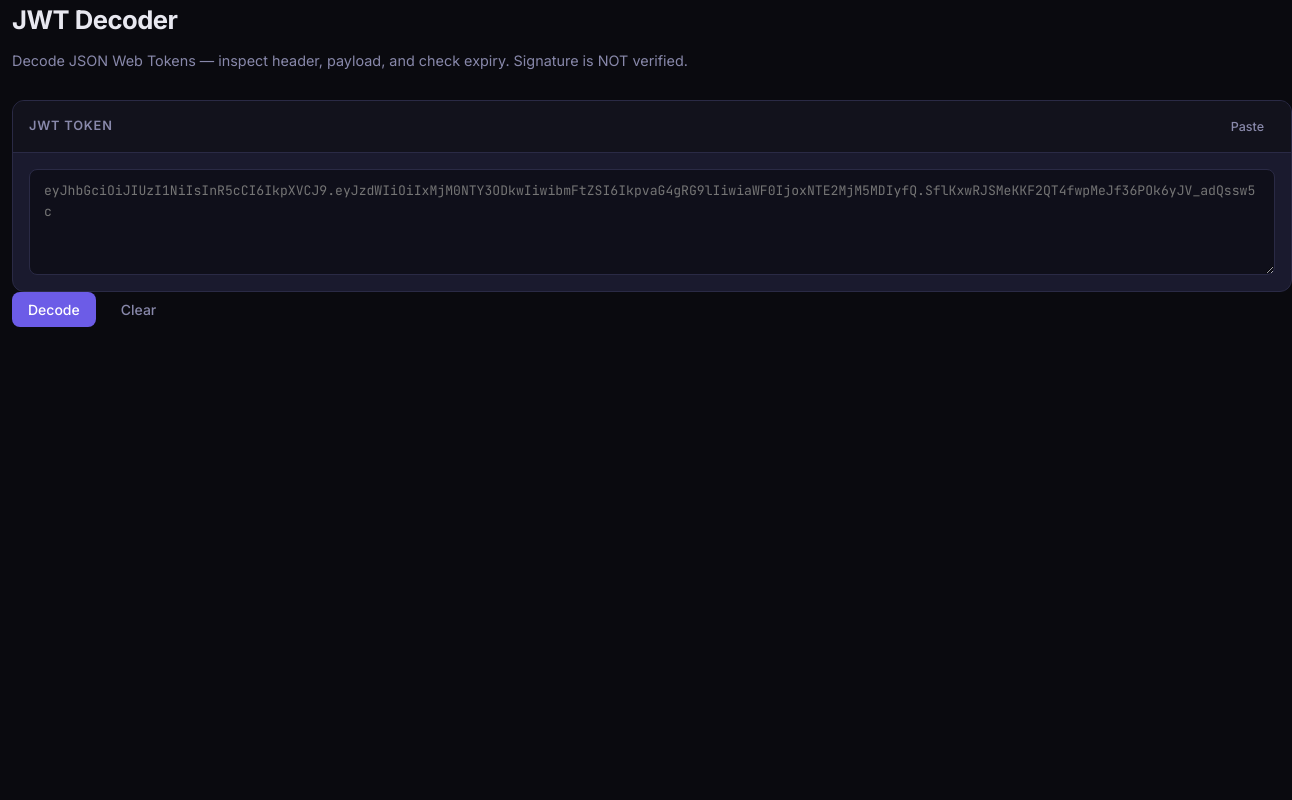
JwtDecoder › decodes valid JWT and shows header/payload/signature
Step 1. Replace the text in the text box with "eyJhbGciOiJIUzI1NiIsInR5cCI6IkpXVCJ9.eyJzdWIiOiIxMjM0NTY3ODkwIiwibmFtZSI6IkpvaG4gRG9lIiwiaWF0IjoxNTE2MjM5MDIyfQ.SflKxwRJSMeKKF2QT4fwpMeJf36POk6yJV_adQssw5c" → (652, 222), box [29,169,1275,275]
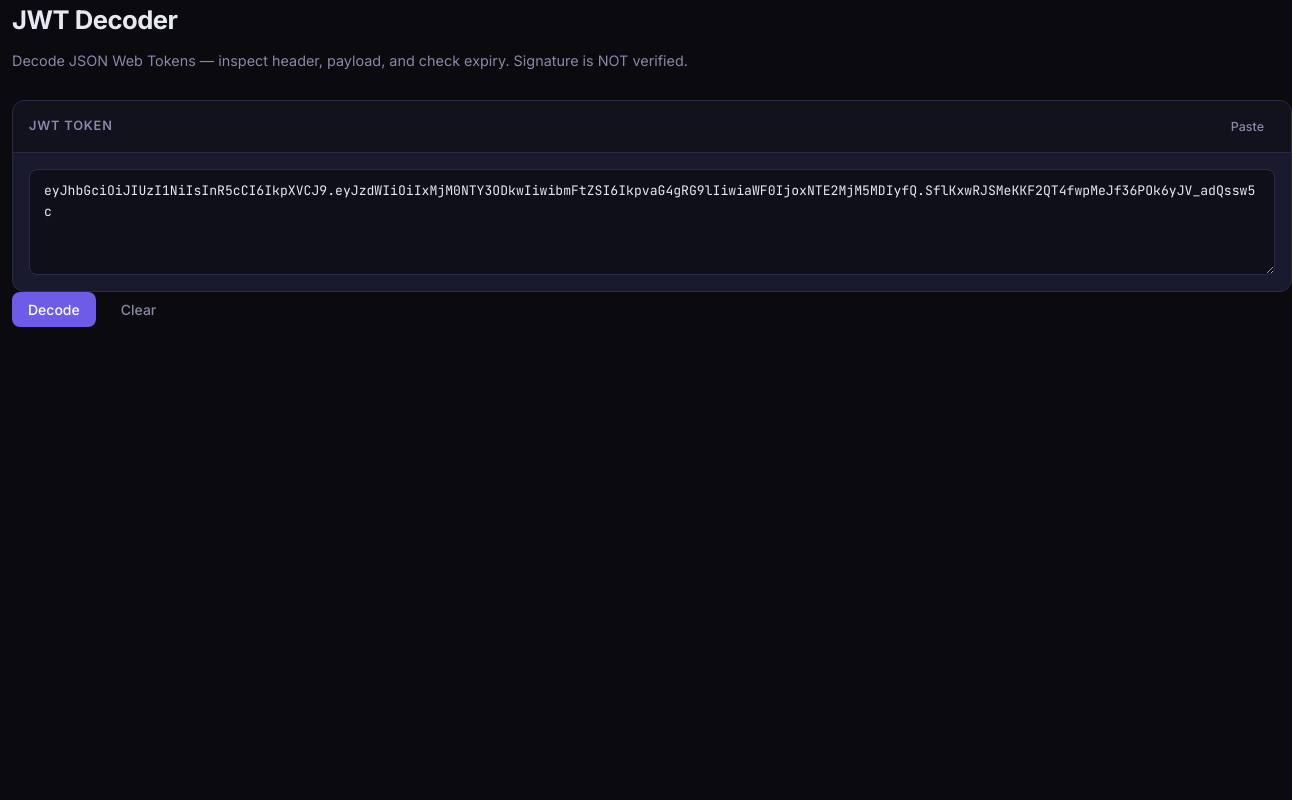
Step 2. Click the button "Decode" → (54, 309), box [12,292,96,327]
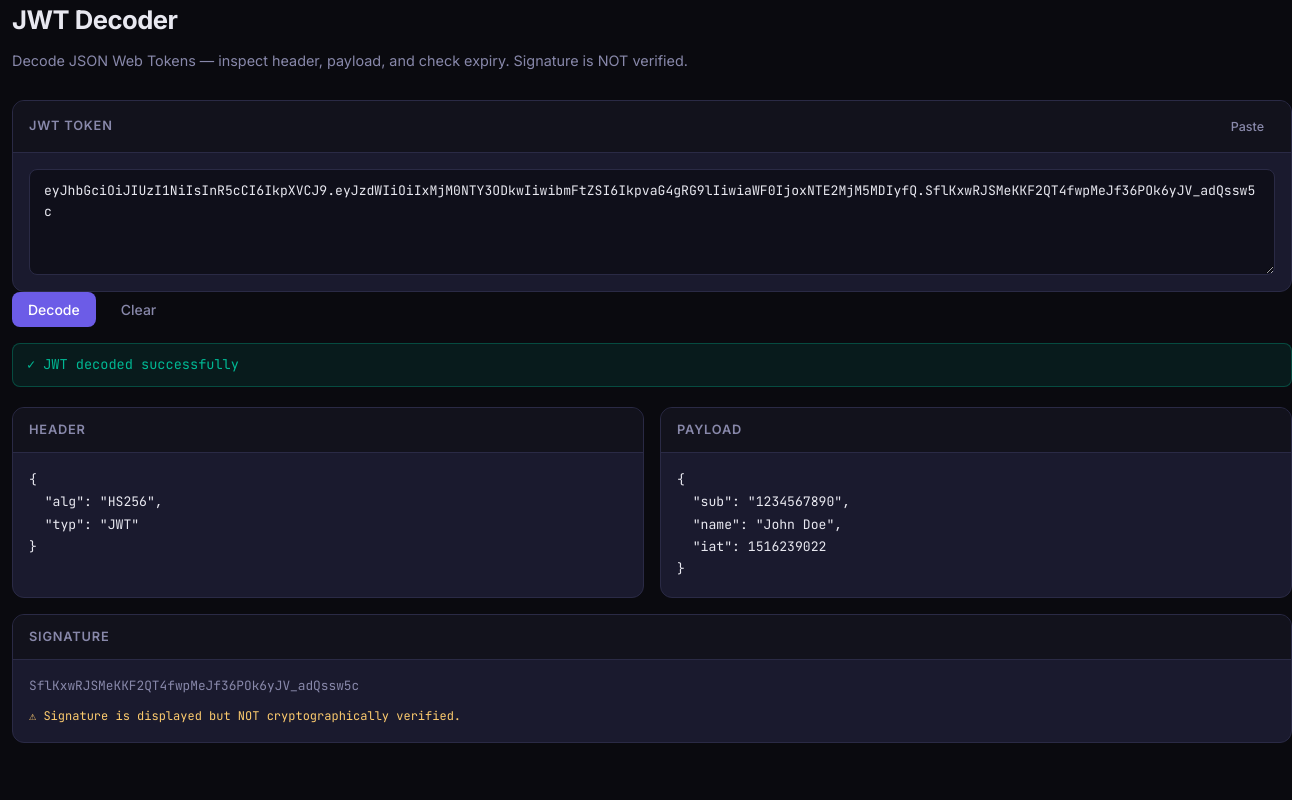
Result: the heading "Header" is shown at [29,420,86,440]
Result: the heading "Payload" is shown at [677,420,742,440]
Result: the heading "Signature" is shown at [29,627,110,647]
